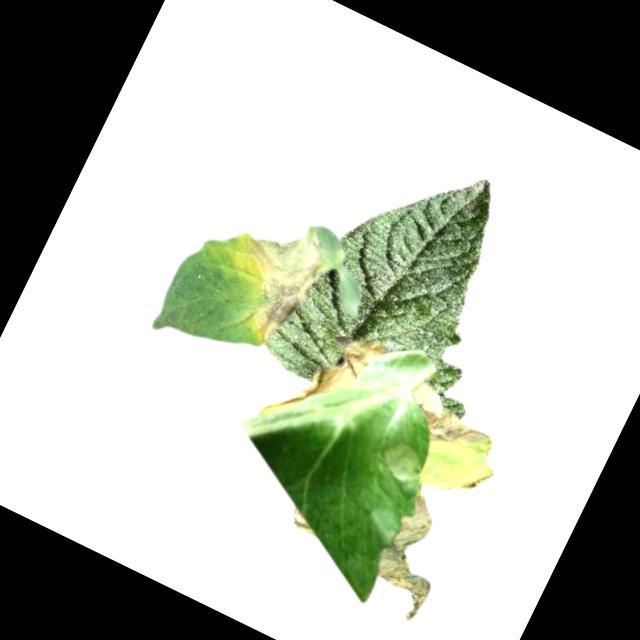Late_blight: (202, 197, 341, 356), (334, 472, 472, 626), (257, 306, 391, 453), (374, 380, 517, 512), (374, 434, 434, 491), (285, 505, 322, 538)
healthy: (258, 123, 562, 449)
